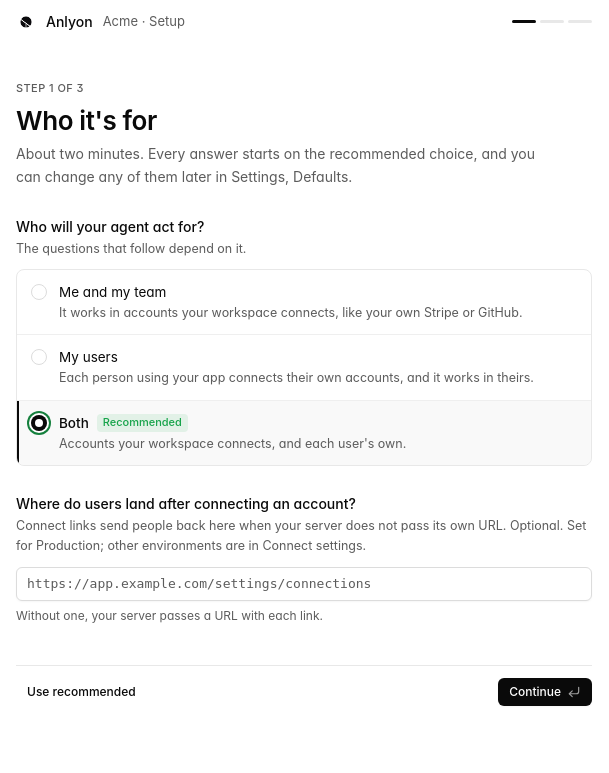
Test case: setup journey › recommends the team decides, whoever the agent acts for
This screenshot has width=609, height=773.
Click the radio button named "Me and my team" next to "Me and my team" at (39, 292), box x1=31 y1=284 x2=47 y2=300
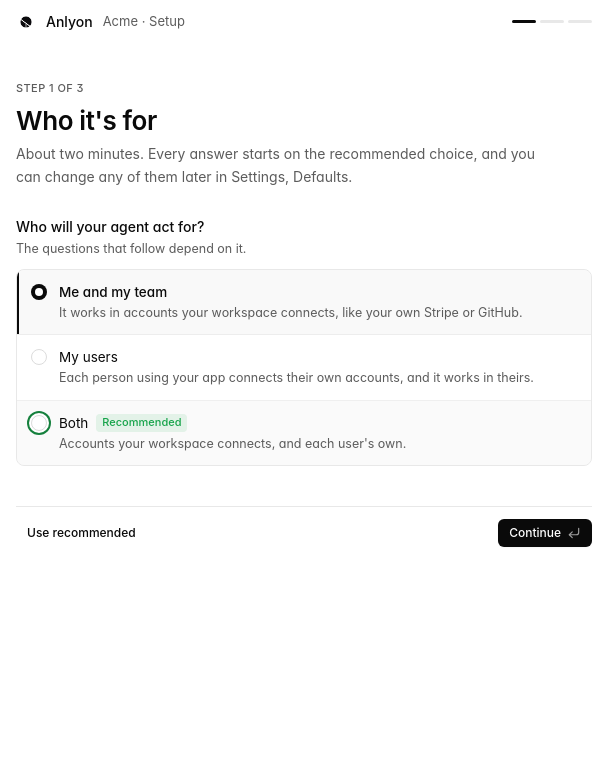
Click the button "Continue" at (545, 533), box x1=498 y1=519 x2=592 y2=547
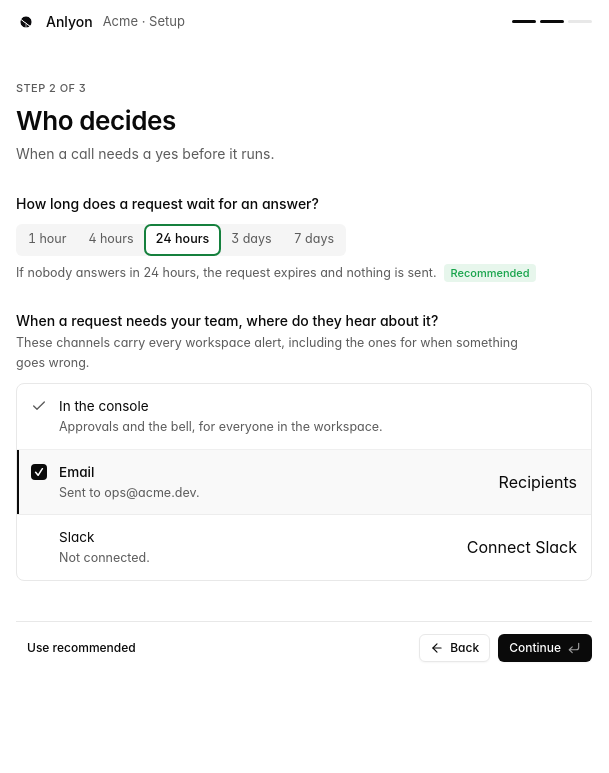
Expected: the radio button labelled "The user decides" is not shown
Click the button "Back" at (455, 648), box x1=419 y1=634 x2=490 y2=662
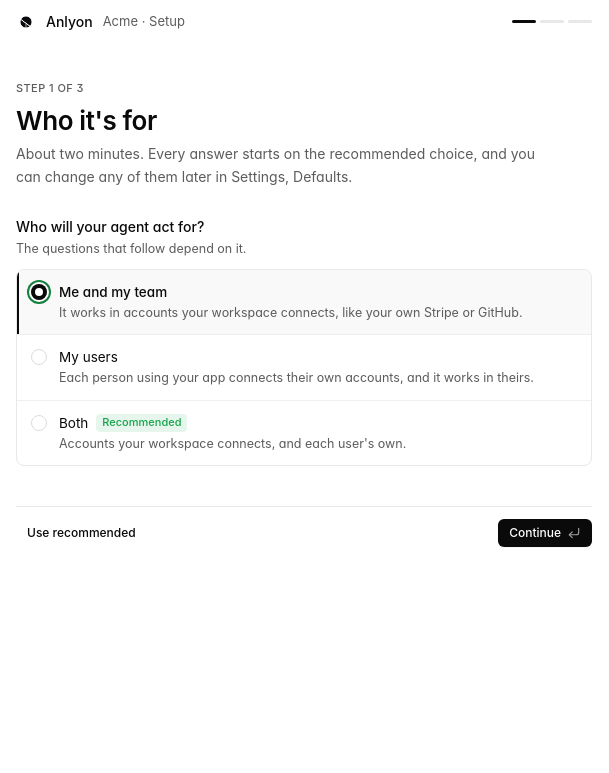
Click the radio button named "My users" next to "My users" at (39, 357), box x1=31 y1=349 x2=47 y2=365
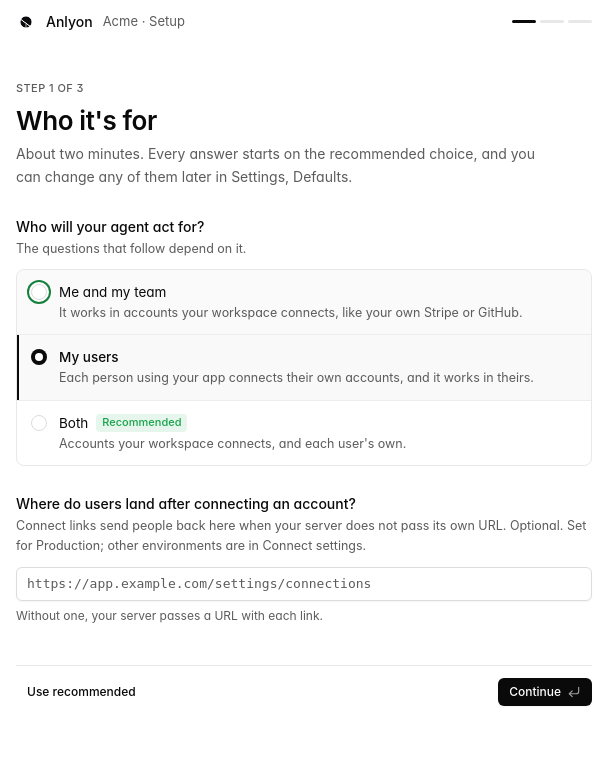
Click the button "Continue" at (545, 692), box x1=498 y1=678 x2=592 y2=706
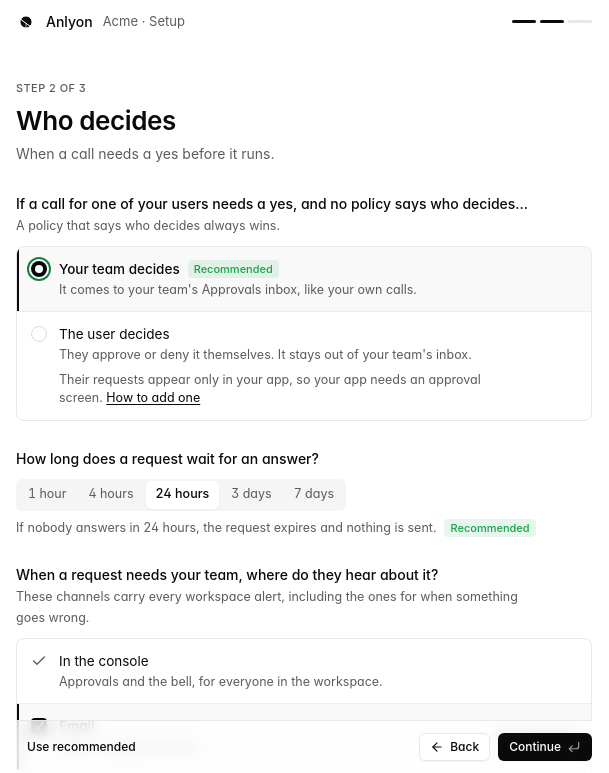
Now the radio button labelled "Your team decides" shows "Recommended", box x1=194 y1=262 x2=273 y2=276
